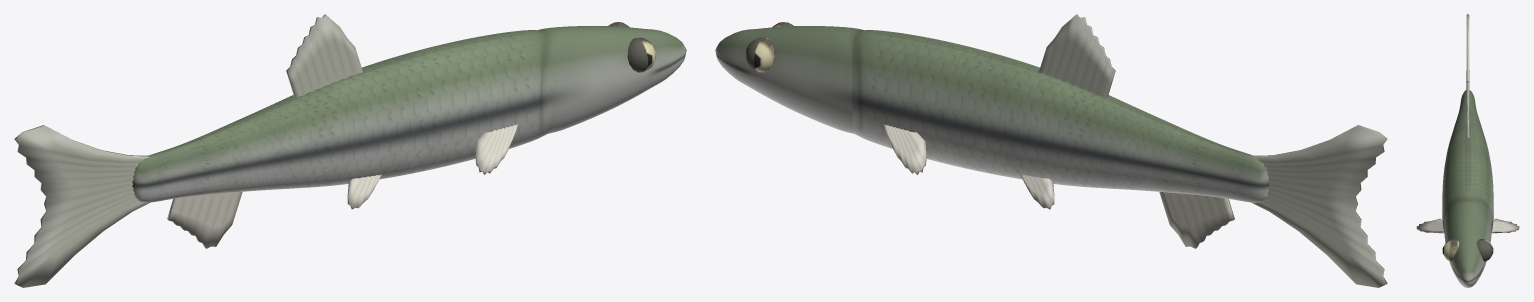
Rendered from fish_minnow.fbx.
3 views of the same model, side by side, from view 1: azimuth 30°, elevation 25°; view 2: azimuth 150°, elevation 25°; view 3: azimuth 270°, elevation 25° (orthographic). The views are drawn at different scales.
Parts seen in each view (by area): view 1: fish_minnow; view 2: fish_minnow; view 3: fish_minnow.
Boxes of the visible parts, x1,y1,x2,y2 form: fish_minnow: (14, 14, 686, 287); fish_minnow: (715, 14, 1387, 287); fish_minnow: (1416, 14, 1519, 287).
Bounding box in the file's own units: 7.97 × 2.32 × 1.61.
1 material, 1 textured.
